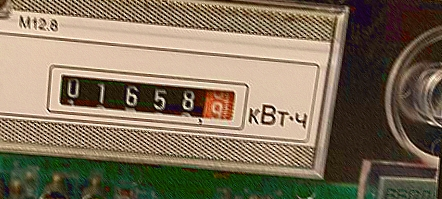0: (65, 74, 80, 97)
1: (94, 80, 106, 102)
5: (151, 85, 167, 109)
6: (122, 82, 138, 105)
8: (179, 86, 195, 109)
9: (207, 97, 222, 119)
screen: (39, 57, 255, 134)
